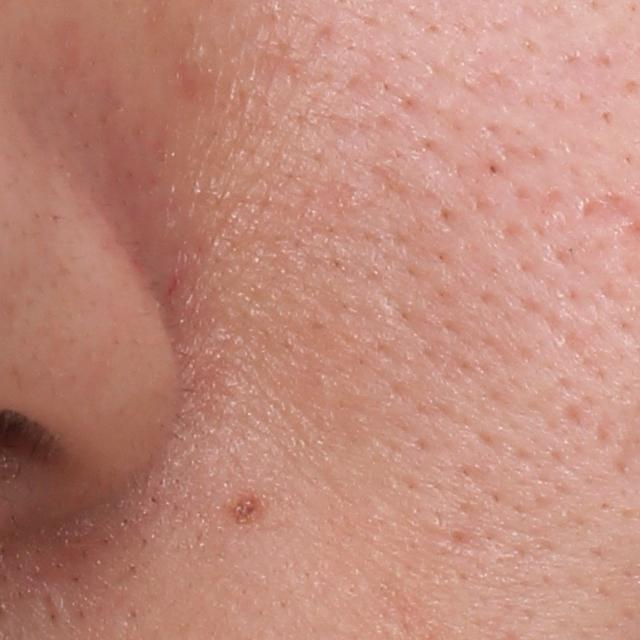nevus: (226, 491, 273, 536)
